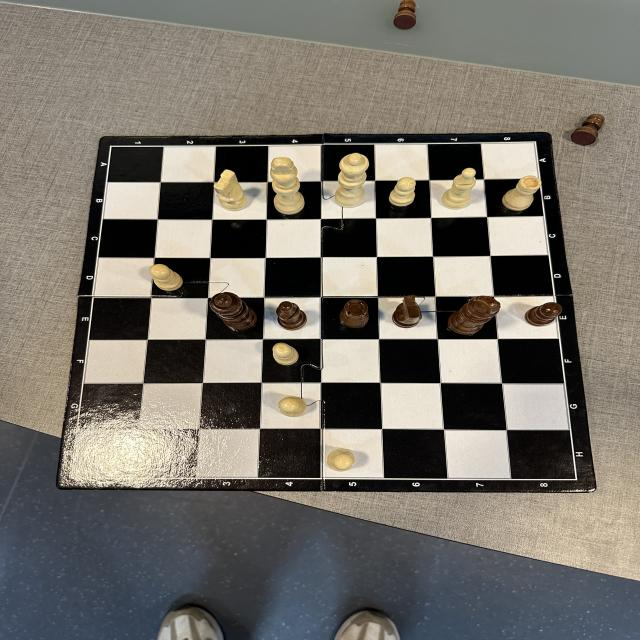Black-Bishop: (276, 301, 306, 330)
Black-King: (447, 296, 501, 334)
Black-Knight: (394, 295, 422, 329)
Black-Pawn: (571, 112, 605, 147), (524, 301, 562, 326), (393, 0, 416, 30)
Black-Queen: (210, 292, 258, 333)
Black-Rook: (339, 298, 370, 329)
White-Bishop: (442, 168, 477, 209)
White-King: (269, 157, 305, 215)
White-Knight: (214, 169, 248, 210)
White-Pawn: (150, 264, 183, 290), (390, 177, 416, 207), (272, 342, 300, 366), (328, 448, 355, 472), (277, 396, 307, 417)
White-Queen: (334, 153, 370, 208)
White-Rook: (502, 176, 542, 212)
